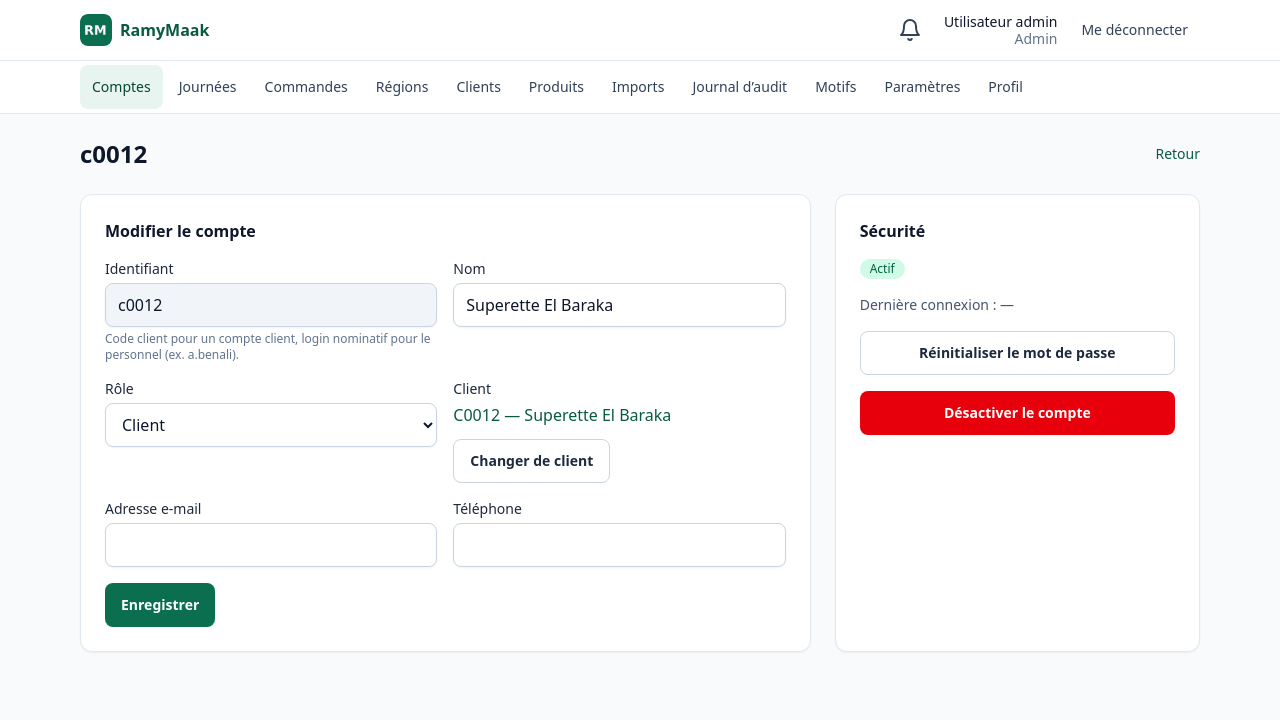
admin — accounts › resets a password after confirmation and displays the new temporary password
Click the button "Réinitialiser le mot de passe" at (1017, 353), box [860,331,1175,375]
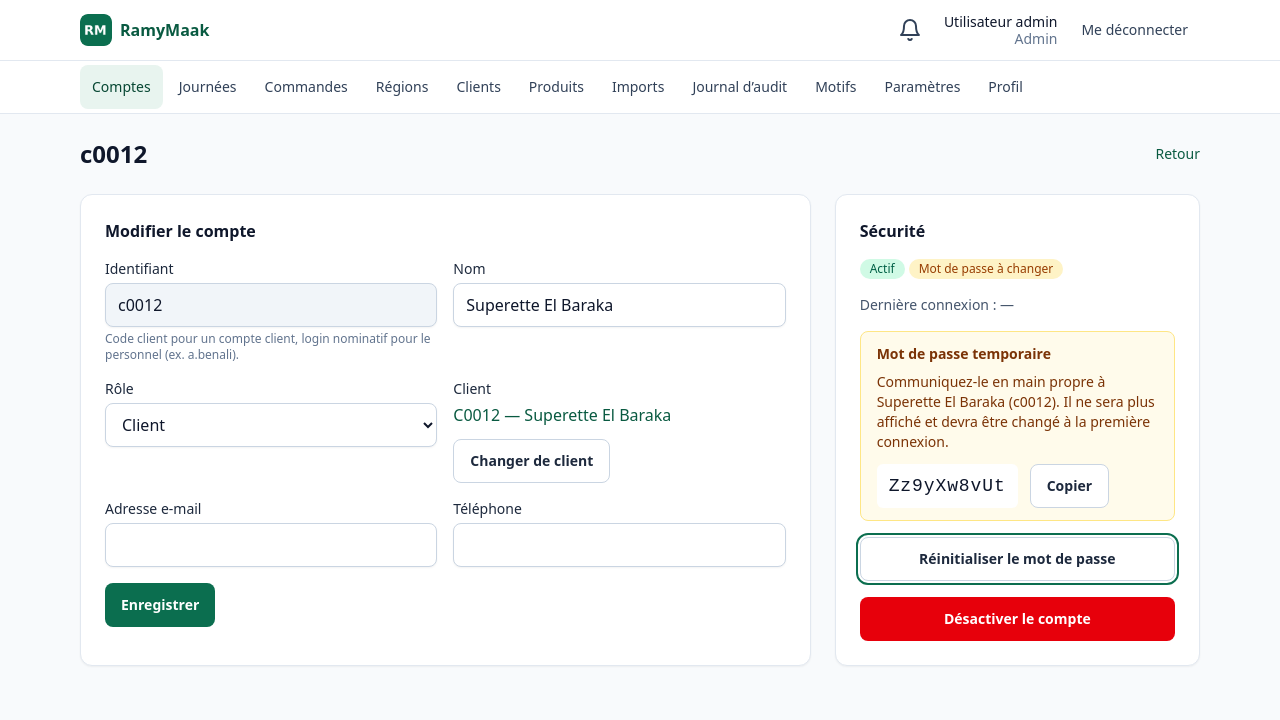
Now the text with test id "temporary-password" reads "Zz9yXw8vUt", box [889,476,1006,496]
